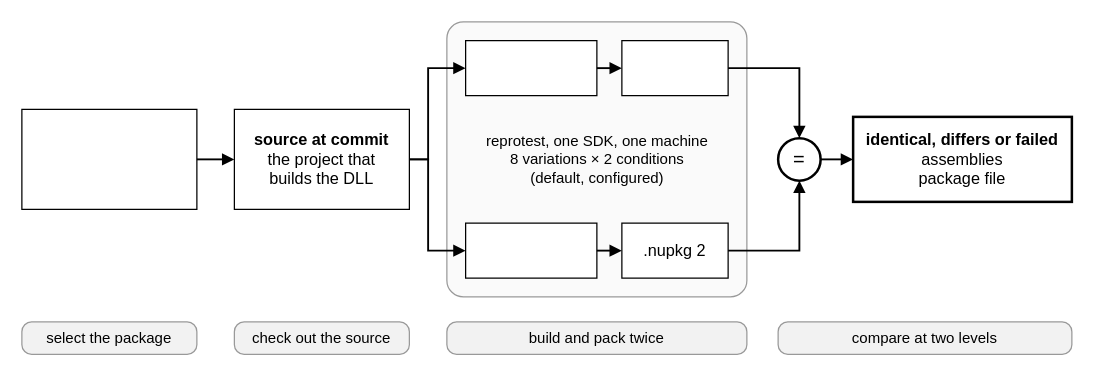
Some shapes in this 1095 by 376 pixel diagram are drawn without their labels. The shapes that lost their labels are listed below. From the top down, each one's centre as x and y in pixels, then its label:
At (x=530, y=67): "control build".
At (x=674, y=67): ".nupkg 1".
At (x=109, y=158): "shipped package repository, commit from the .nuspec".
At (x=530, y=250): "varied build one variation".
